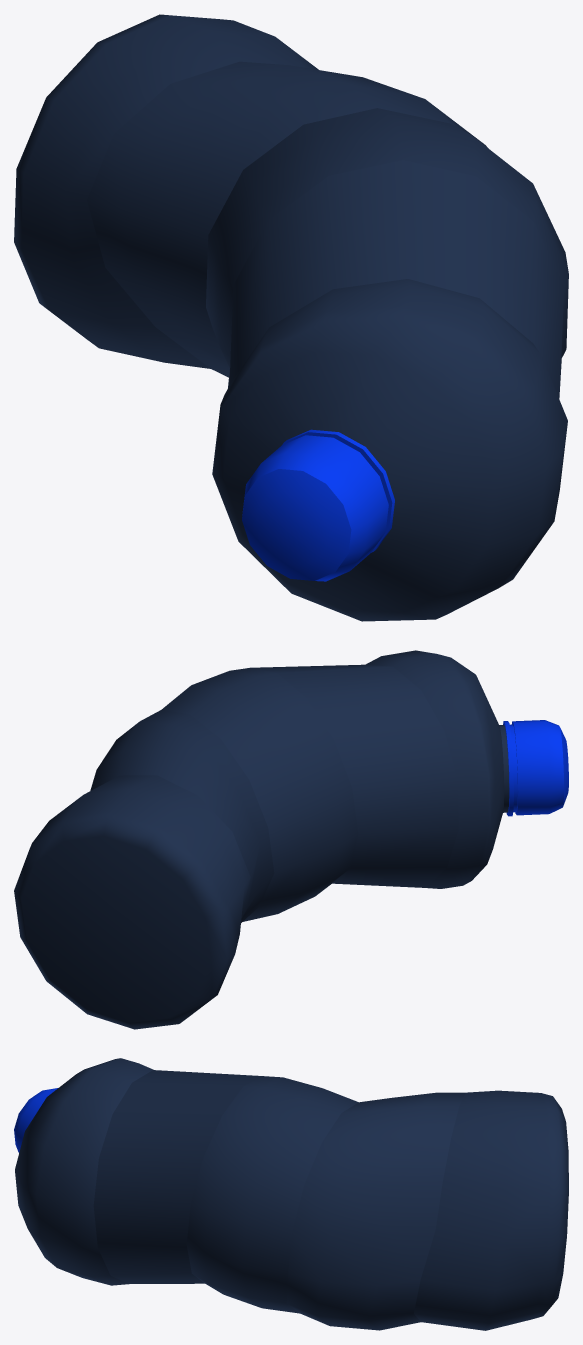
File: SM_MCGarbages_Mesh01.FBX
The picture shows the model from 3 angles, top to bottom: view 1: azimuth 30°, elevation 25°; view 2: azimuth 150°, elevation 25°; view 3: azimuth 270°, elevation 25°; orthographic projection. The views are drawn at different scales.
Visible parts, largest first — view 1: SM_MCGarbages_Mesh01; view 2: SM_MCGarbages_Mesh01; view 3: SM_MCGarbages_Mesh01.
Part boxes in pixels (left/top/right/bottom): SM_MCGarbages_Mesh01: left=14, top=14, right=568, bottom=621; SM_MCGarbages_Mesh01: left=14, top=650, right=568, bottom=1029; SM_MCGarbages_Mesh01: left=14, top=1058, right=568, bottom=1330.
Size of what is drawn, in the model's own units: 19.01 by 30.3 by 13.62.
